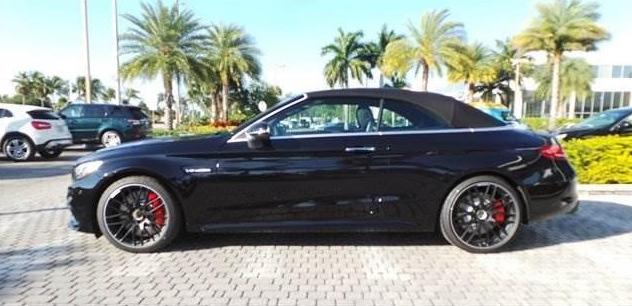C63AMG: (65, 84, 577, 255)
